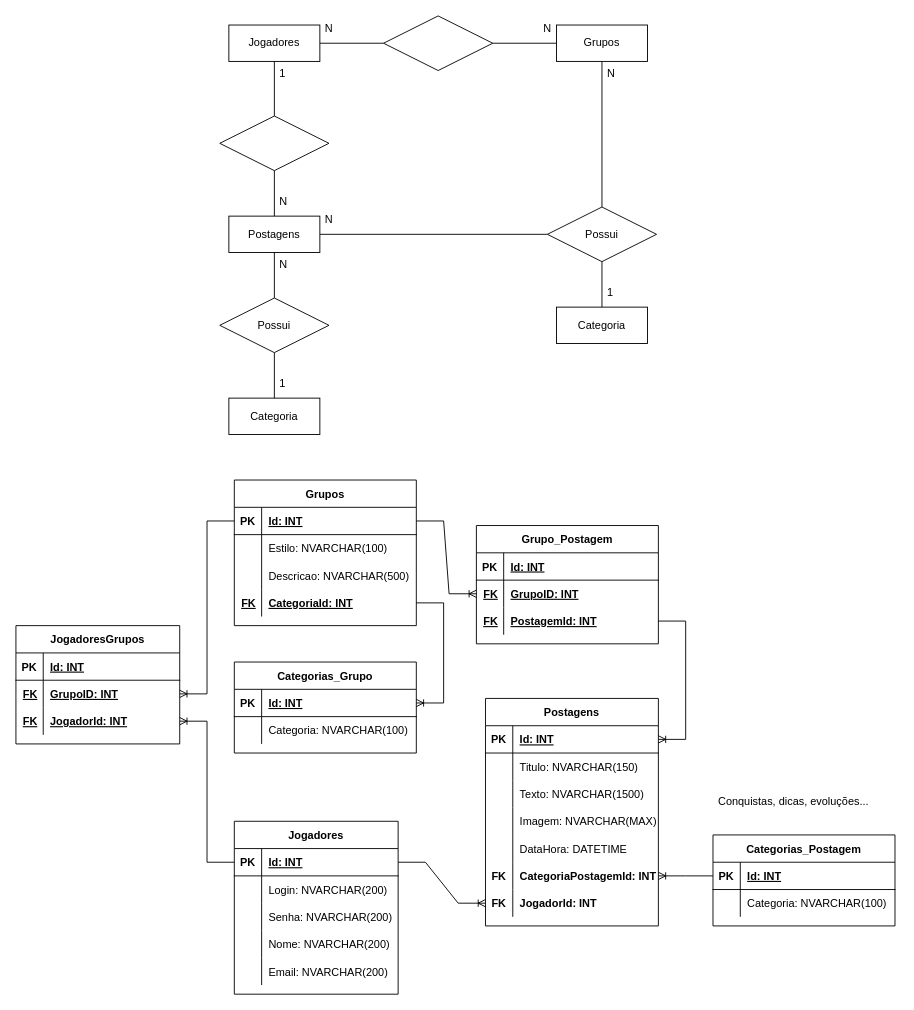
The diagram is 914 pixels wide and 1010 high, and some of its shapes have lost their labels. Here are the shapes that lost their labels. From the top down, the centre of each, then its label:
(x=438, y=43): Participa
(x=274, y=143): Posta
